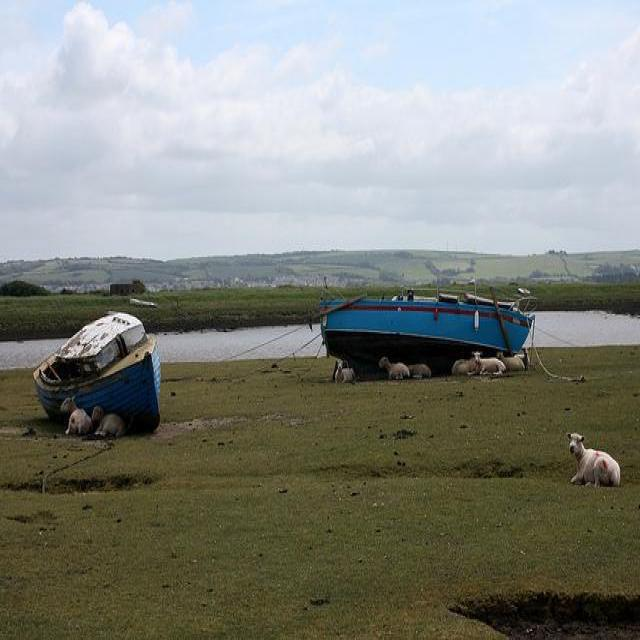Sheep: (567, 433, 619, 485)
